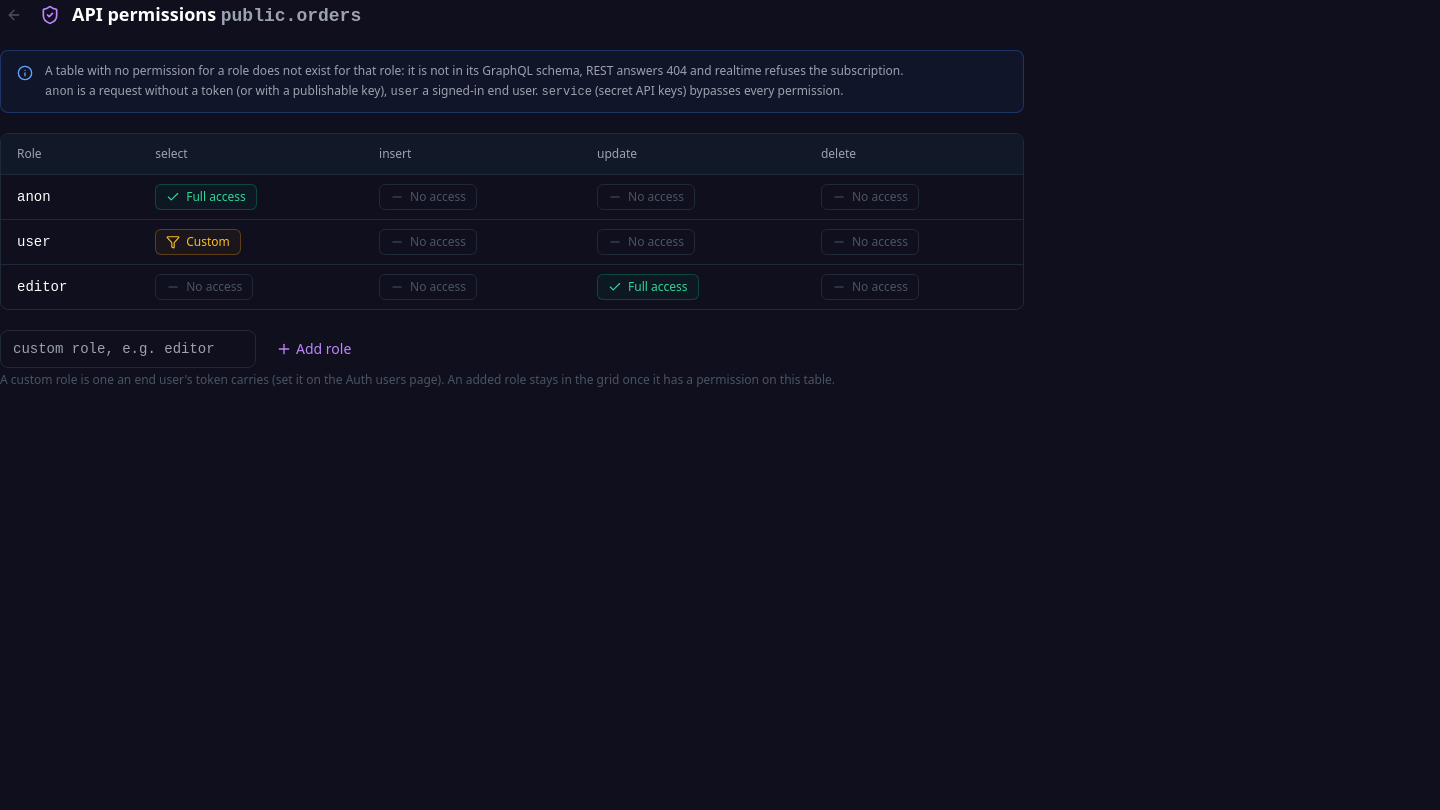
Test: TablePermissionsPage editor › opens an existing select permission prefilled and saves the edit
Click the button "Custom" at (198, 242), box [155,229,241,255]
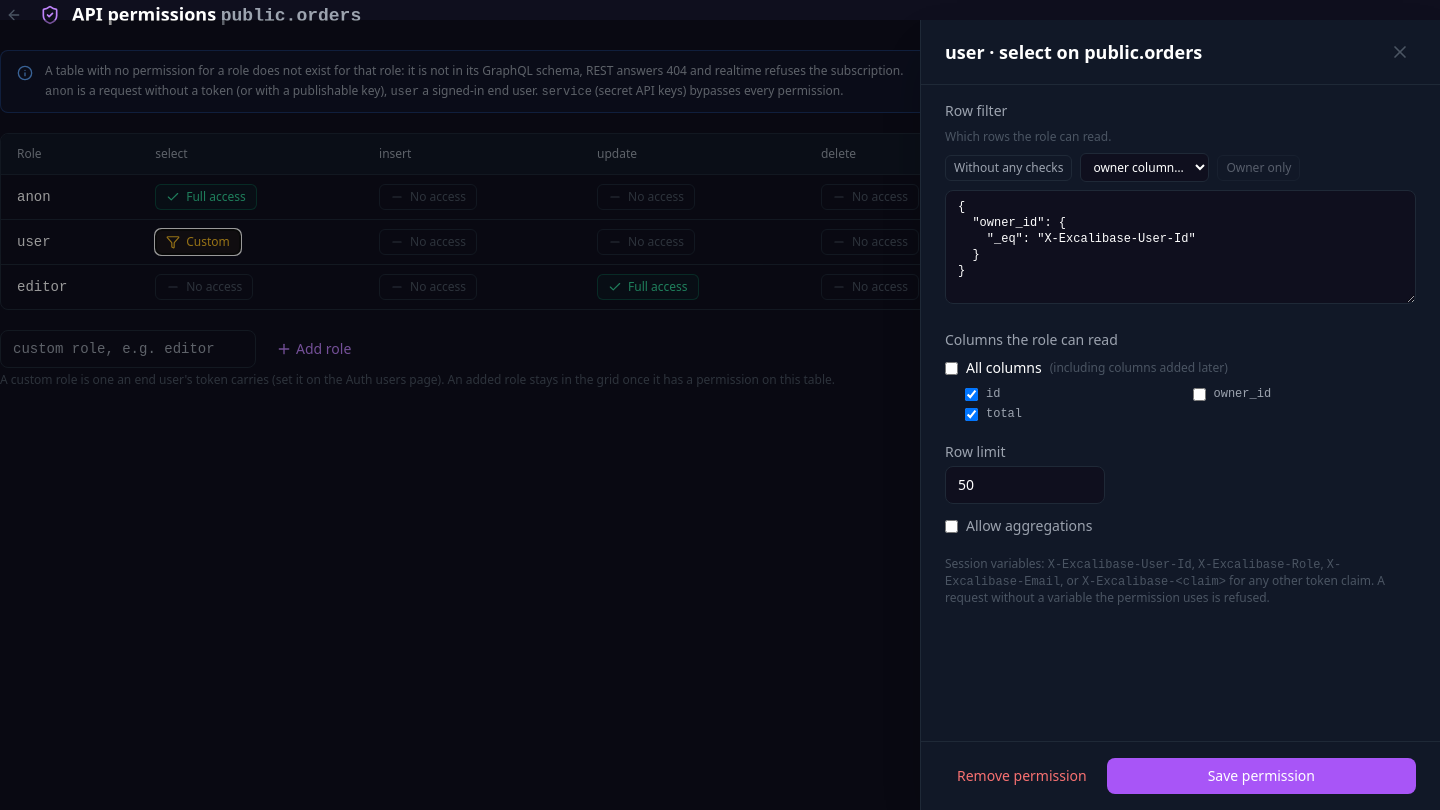
Result: the checkbox labelled "id" is checked at [965,388,978,400]
Result: the checkbox labelled "owner_id" is not checked
Result: the number field labelled "Row limit" holds "50" at [945,466,1105,504]
Click the checkbox labelled "owner_id" at (1199, 394), box [1192,388,1206,400]
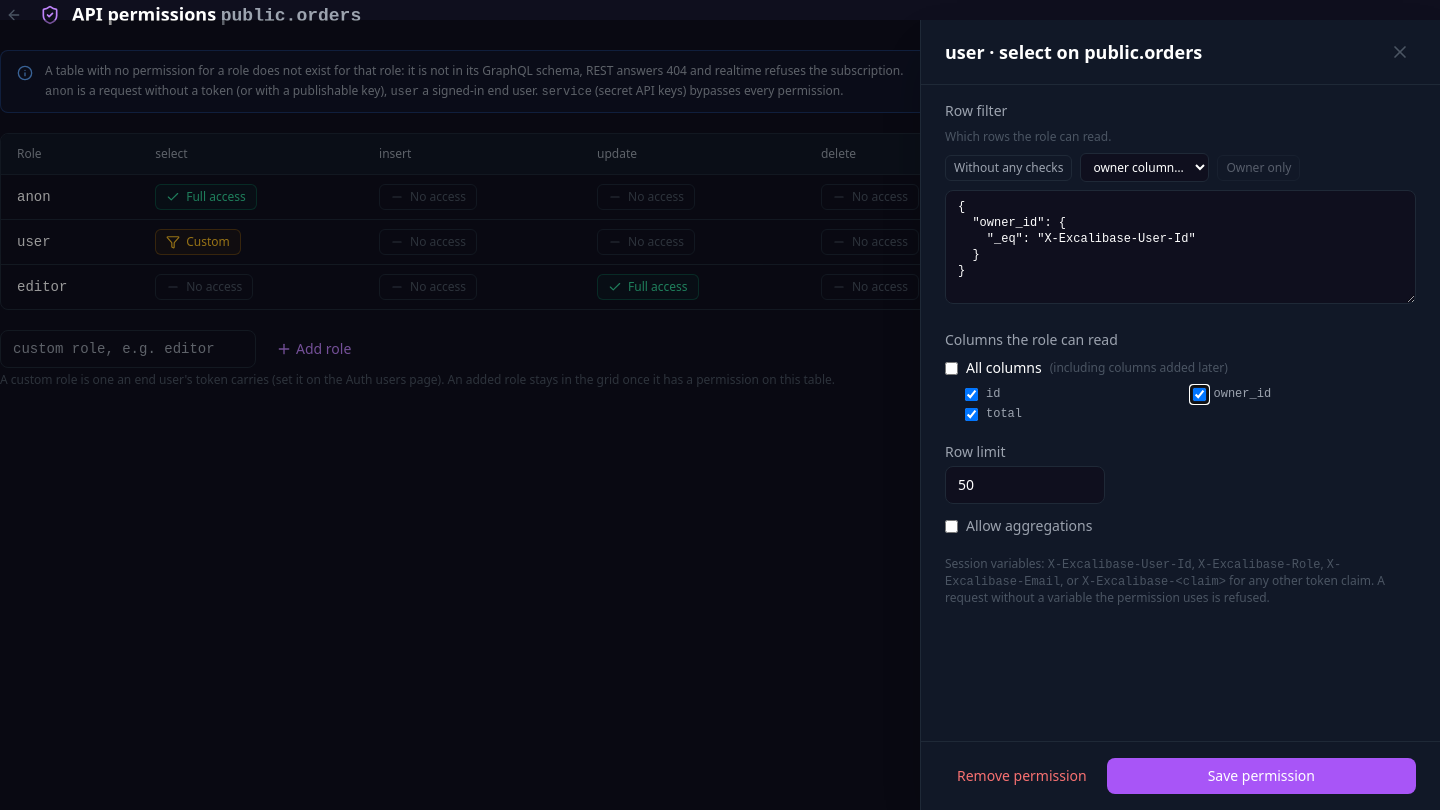
Clear the number field labelled "Row limit" at (1025, 485), box [945,466,1105,504]
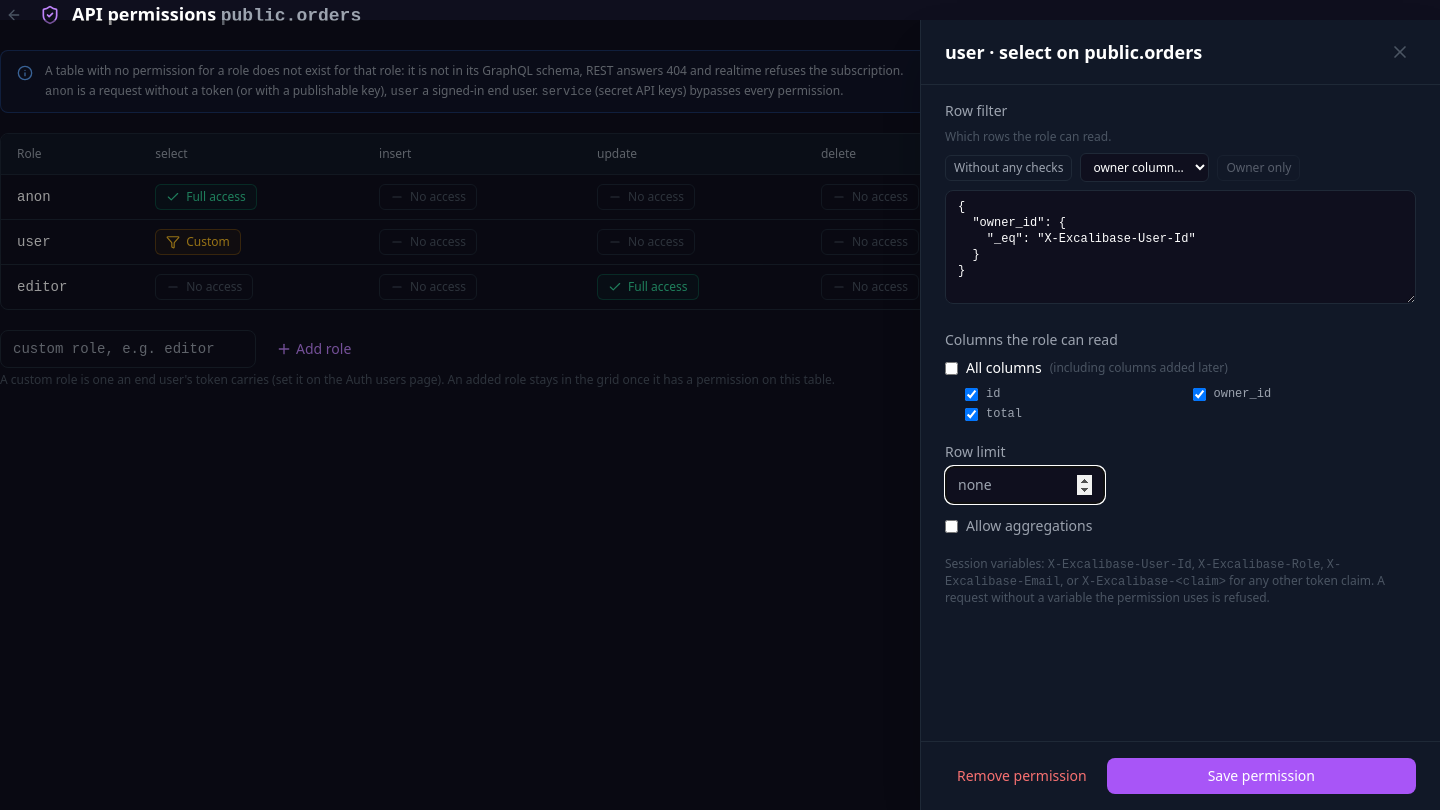
Click the checkbox labelled "Allow aggregations" at (952, 526), box [945,520,958,532]
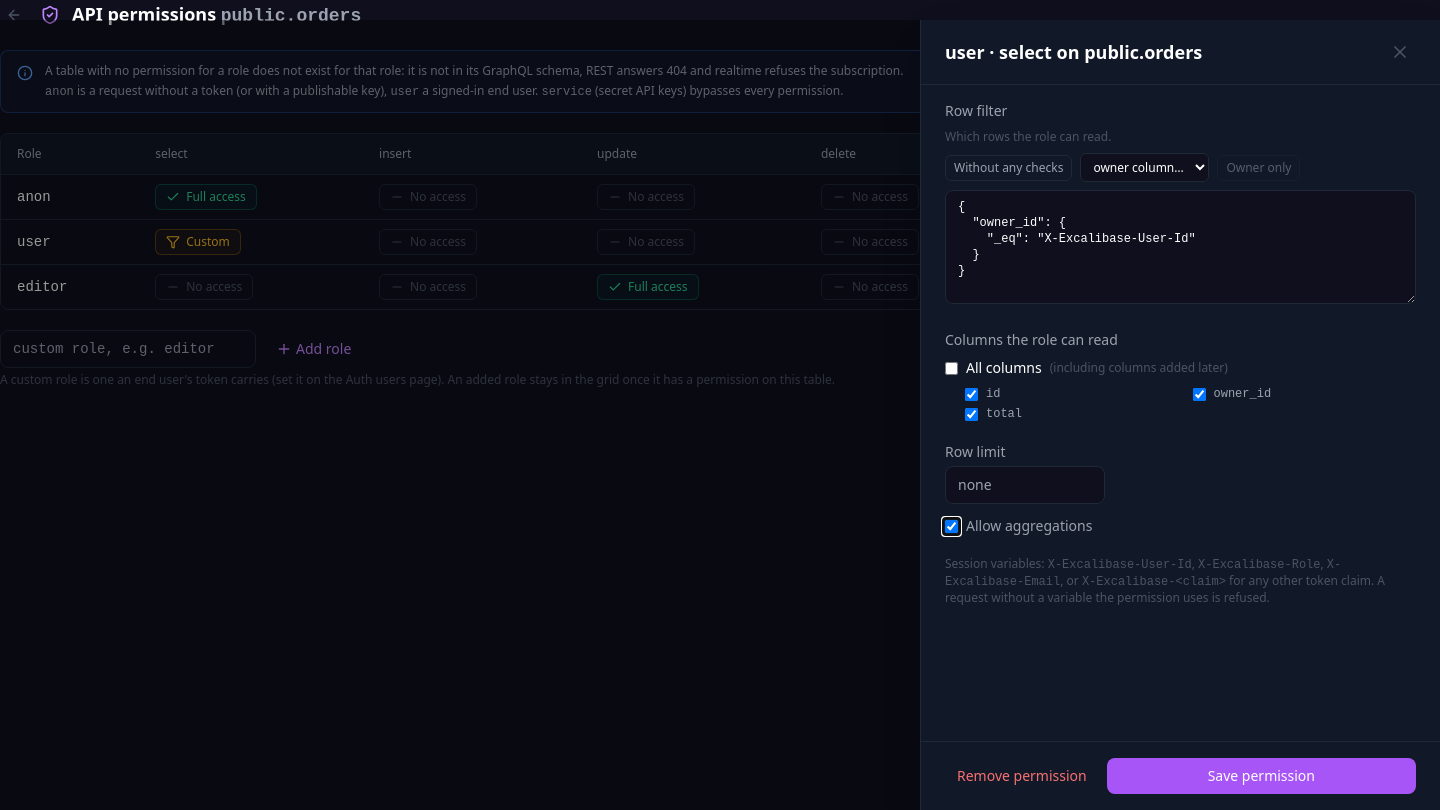
Click the button "Save permission" at (1261, 776), box [1107,758,1416,794]
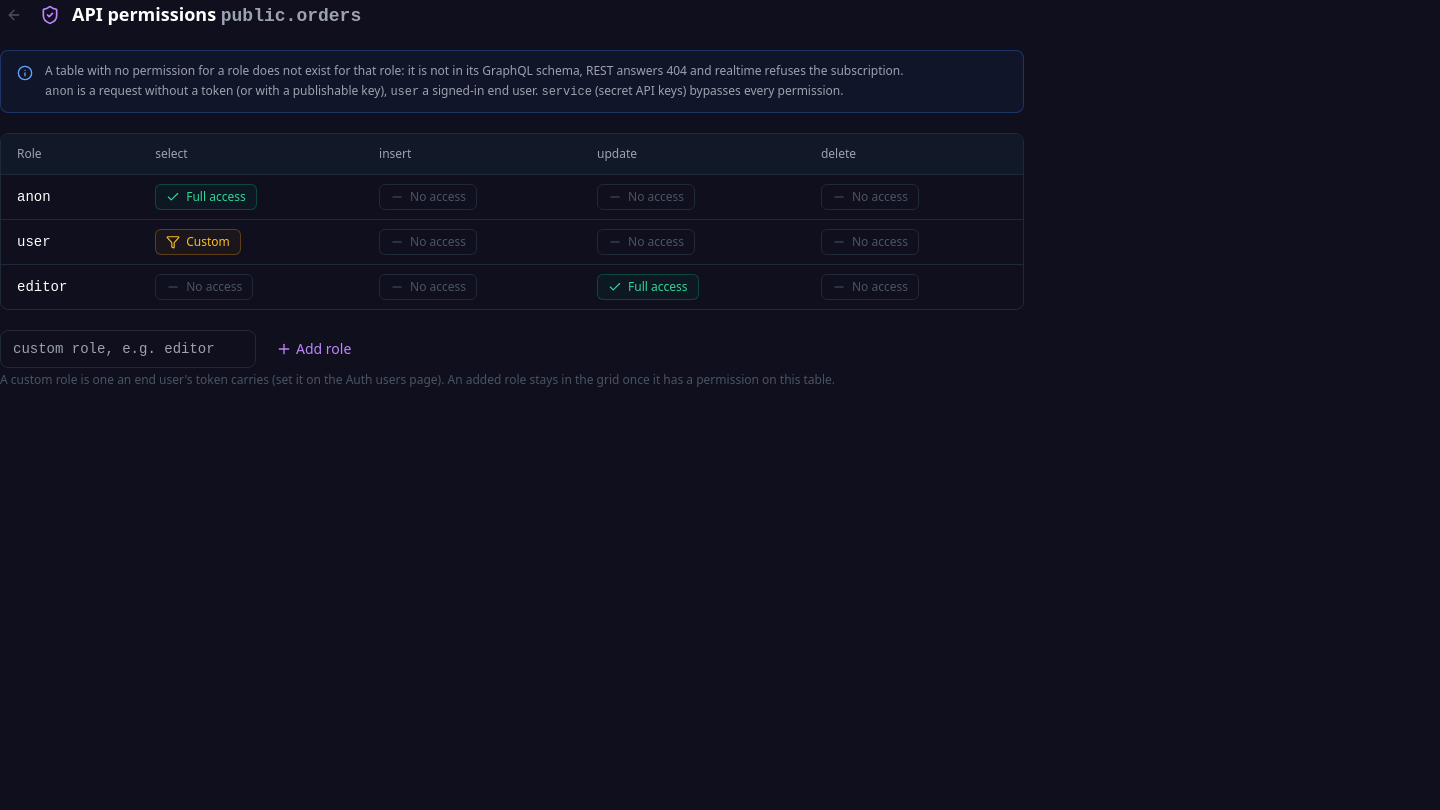
Result: the element with test id "sidepanel" is gone
